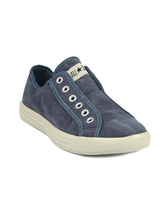shoes: (14, 57, 153, 159)
